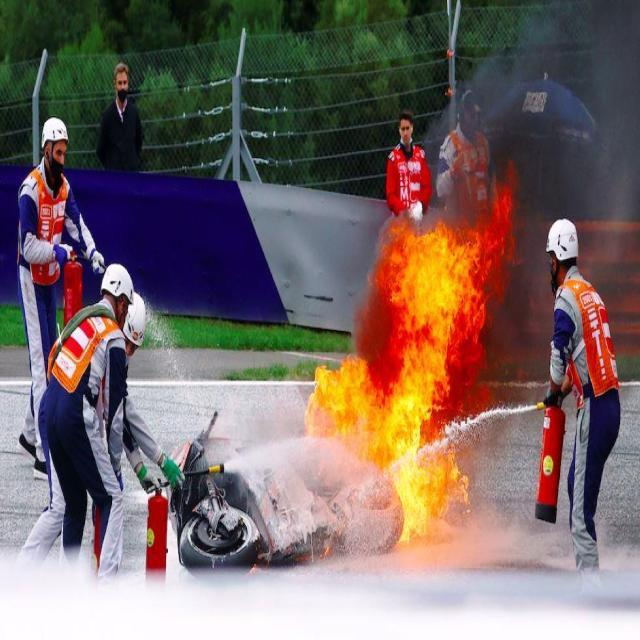Fire: (304, 182, 514, 546)
Smoke: (486, 26, 640, 231)
